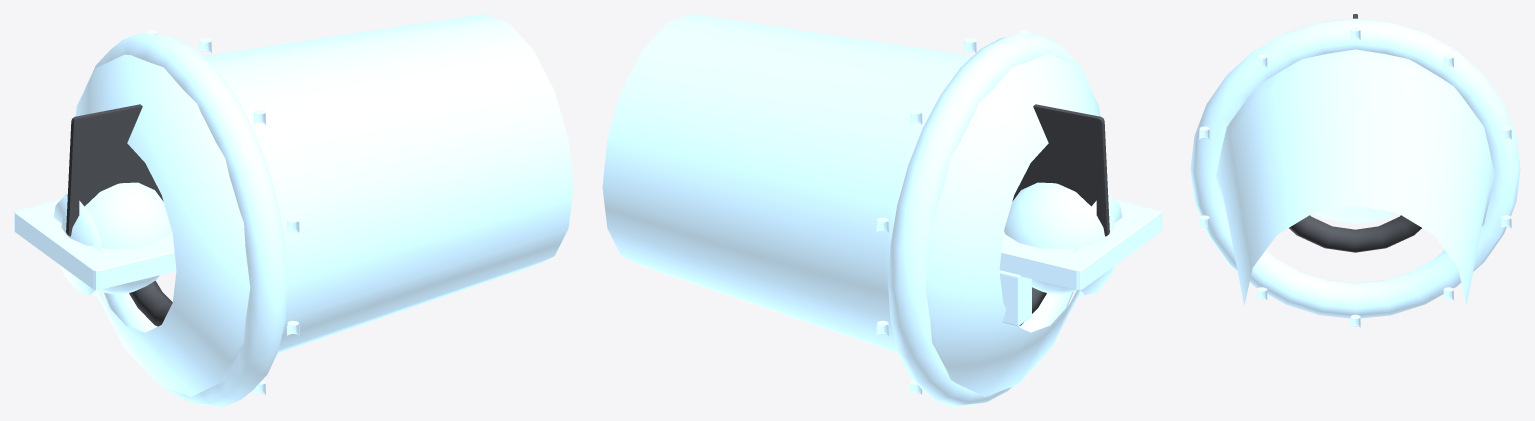
File: engine_fusion_lattice.glb
The picture shows the model from 3 angles, left to right: view 1: azimuth 30°, elevation 25°; view 2: azimuth 150°, elevation 25°; view 3: azimuth 270°, elevation 25°; orthographic projection. The views are drawn at different scales.
Visible parts, largest first — view 1: LOD0_ENGINE_PLASMA_RING_MAIN, Plasma_Ring_Outer, DET_corporate_polish_band, DET_fusion_coil_ring, HOOK_DRIVE_CORE, HOOK_DRIVE_FAN, HOOK_DRIVE_PLUME, engine_plasma_ring_Material_Mechanical_Merged; view 2: LOD0_ENGINE_PLASMA_RING_MAIN, Plasma_Ring_Outer, DET_corporate_polish_band, DET_fusion_coil_ring, HOOK_DRIVE_CORE, DET_plasma_bleed_vent, HOOK_DRIVE_PLUME, engine_plasma_ring_Material_Mechanical_Merged; view 3: LOD0_ENGINE_PLASMA_RING_MAIN, Plasma_Ring_Outer, HOOK_DRIVE_FAN, engine_plasma_ring_Material_Mechanical_Merged.
Boxes of the visible parts, x1=… form: LOD0_ENGINE_PLASMA_RING_MAIN: x1=75, y1=14, x2=573, y2=396; Plasma_Ring_Outer: x1=84, y1=33, x2=287, y2=406; DET_corporate_polish_band: x1=66, y1=104, x2=163, y2=236; DET_fusion_coil_ring: x1=14, y1=199, x2=176, y2=289; HOOK_DRIVE_CORE: x1=61, y1=182, x2=171, y2=294; HOOK_DRIVE_FAN: x1=129, y1=280, x2=172, y2=326; HOOK_DRIVE_PLUME: x1=53, y1=193, x2=101, y2=296; engine_plasma_ring_Material_Mechanical_Merged: x1=145, y1=30, x2=299, y2=394; LOD0_ENGINE_PLASMA_RING_MAIN: x1=602, y1=14, x2=1100, y2=396; Plasma_Ring_Outer: x1=888, y1=33, x2=1091, y2=406; DET_corporate_polish_band: x1=1012, y1=104, x2=1109, y2=236; DET_fusion_coil_ring: x1=999, y1=199, x2=1161, y2=289; HOOK_DRIVE_CORE: x1=1004, y1=182, x2=1114, y2=294; DET_plasma_bleed_vent: x1=999, y1=270, x2=1031, y2=326; HOOK_DRIVE_PLUME: x1=1074, y1=193, x2=1122, y2=296; engine_plasma_ring_Material_Mechanical_Merged: x1=876, y1=30, x2=1030, y2=394; LOD0_ENGINE_PLASMA_RING_MAIN: x1=1216, y1=49, x2=1494, y2=305; Plasma_Ring_Outer: x1=1190, y1=18, x2=1520, y2=318; HOOK_DRIVE_FAN: x1=1289, y1=215, x2=1421, y2=252; engine_plasma_ring_Material_Mechanical_Merged: x1=1199, y1=27, x2=1511, y2=327.
Size of the model in its own units: 2.85 by 2.08 by 2.08.
